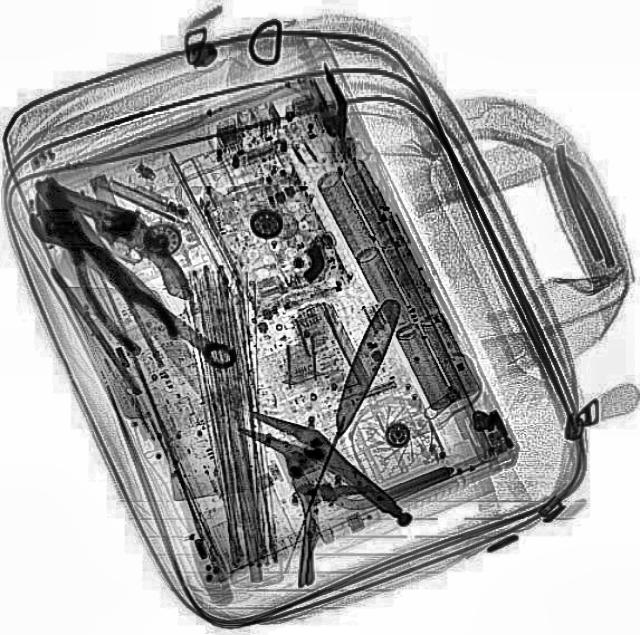Gun: (18, 178, 212, 300)
Knife: (27, 174, 239, 417), (272, 296, 402, 572)
Pliers: (19, 193, 187, 365)
Wrench: (20, 197, 242, 375)
